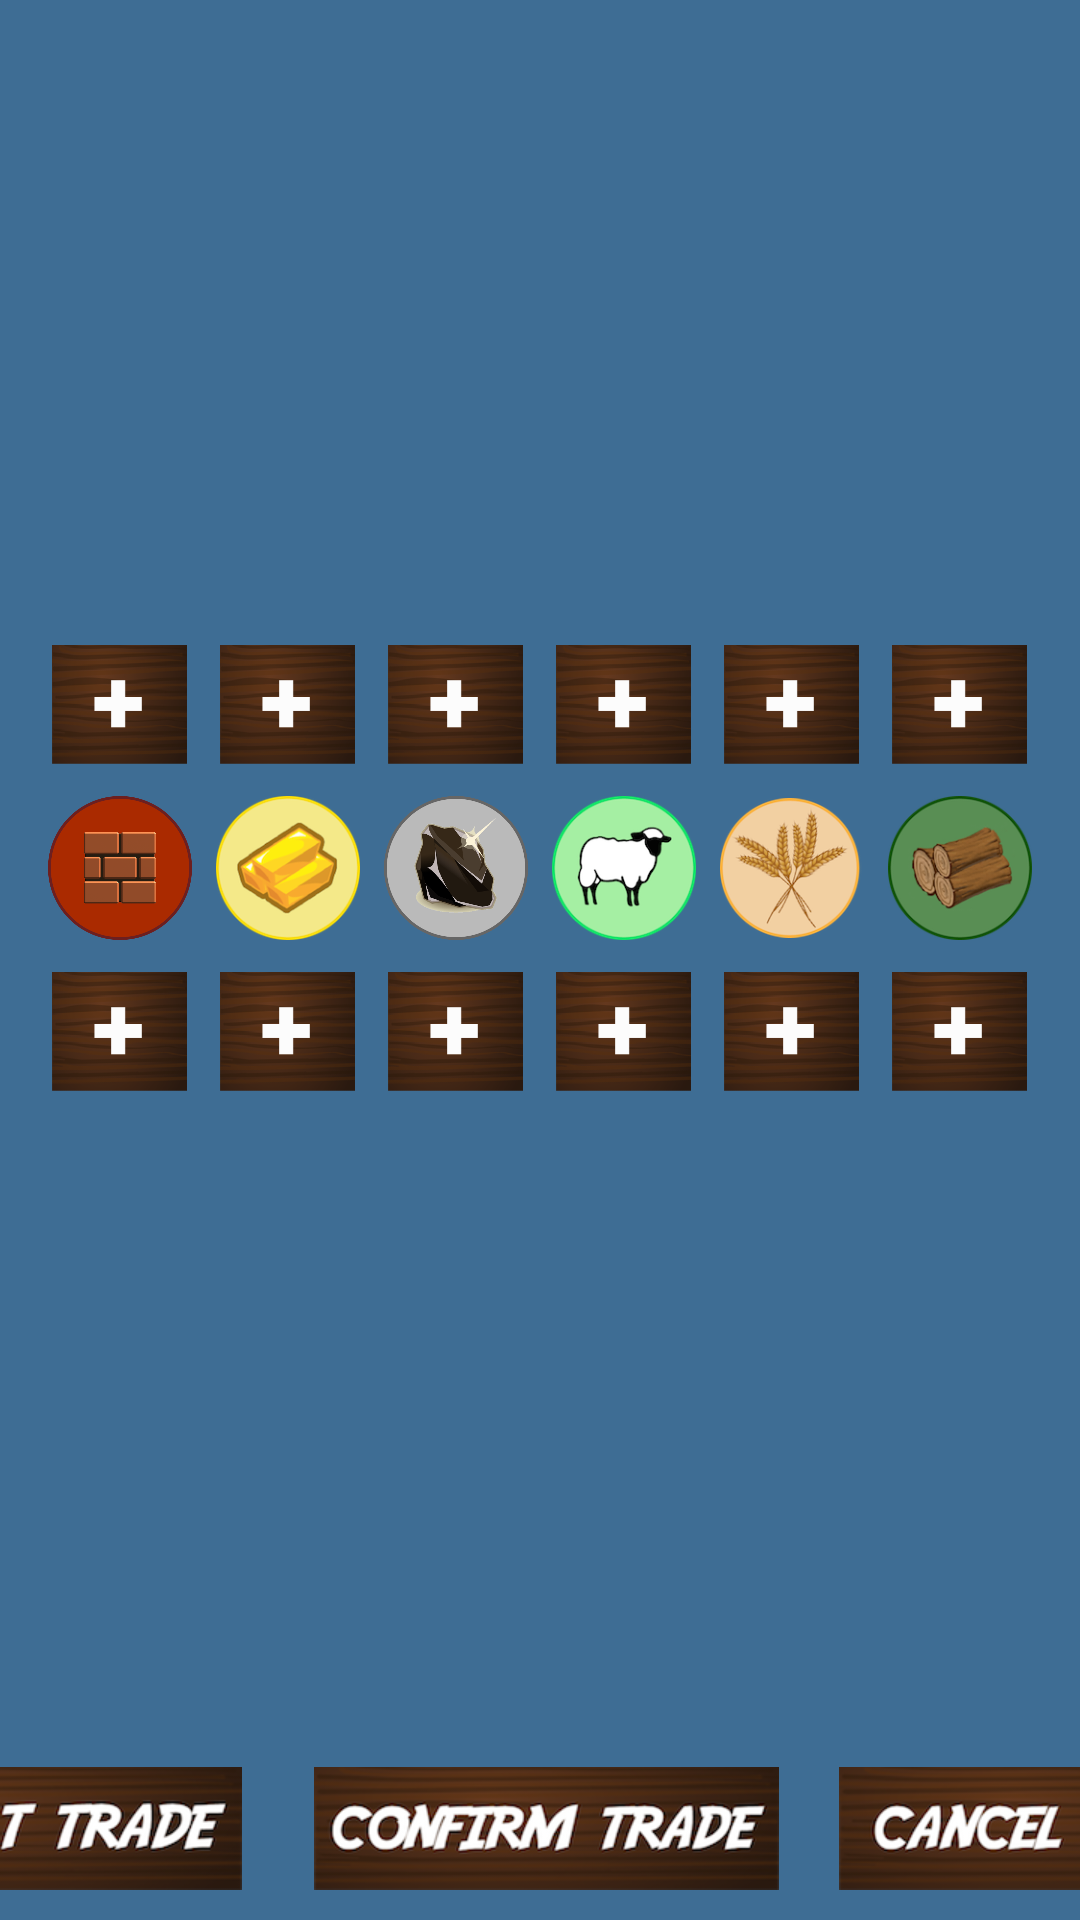

Icon bounding boxes for this 1080×1920 phone screenshot, format (x1, y1, x2, y2):
bricktradeicon: (48, 796, 192, 940)
goldtradeicon: (216, 796, 360, 940)
oretradeicon: (384, 796, 528, 940)
sheeptradeicon: (552, 796, 696, 940)
wheattradeicon: (720, 798, 860, 938)
woodtradeicon: (888, 796, 1032, 940)
